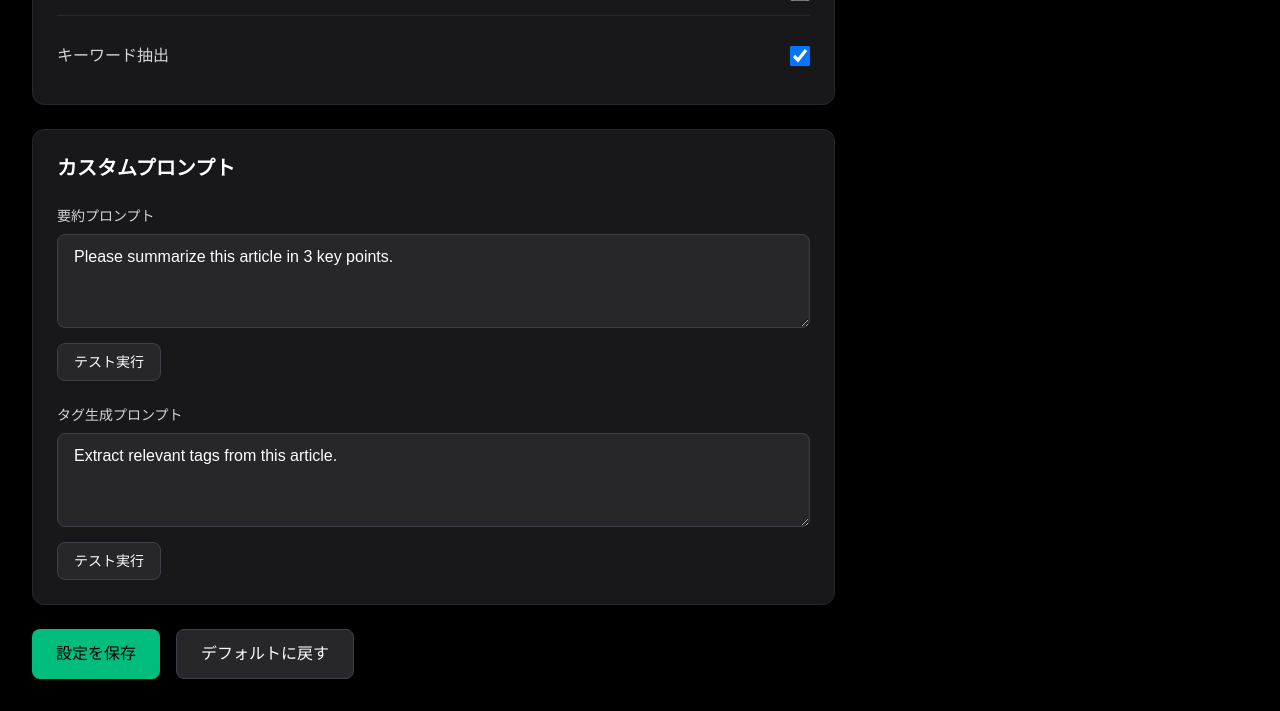
it: AISettingsPage › should reset settings to default
(page scrolled)
Click the button "デフォルトに戻す" at [265, 654], box x1=176 y1=629 x2=354 y2=679
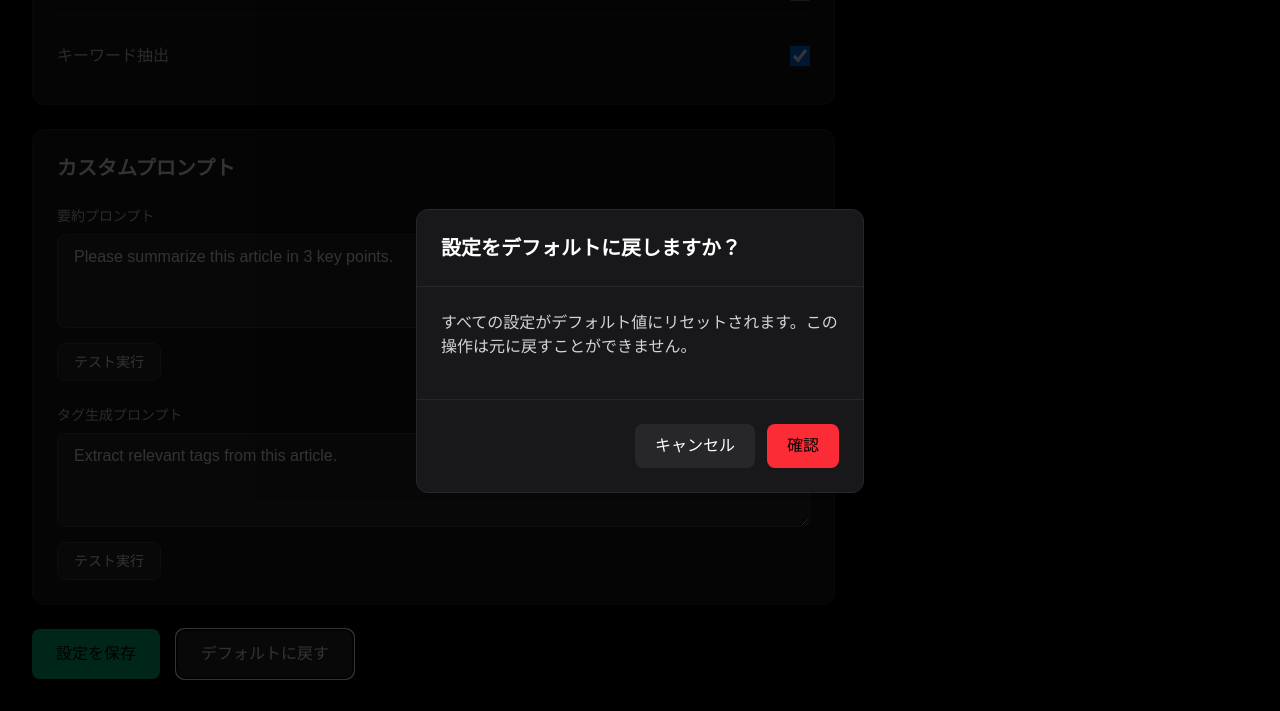
Expected: the heading "設定をデフォルトに戻しますか？" is shown, x1=441 y1=237 x2=741 y2=259
Click the button "確認" at [803, 446], box x1=767 y1=424 x2=839 y2=468
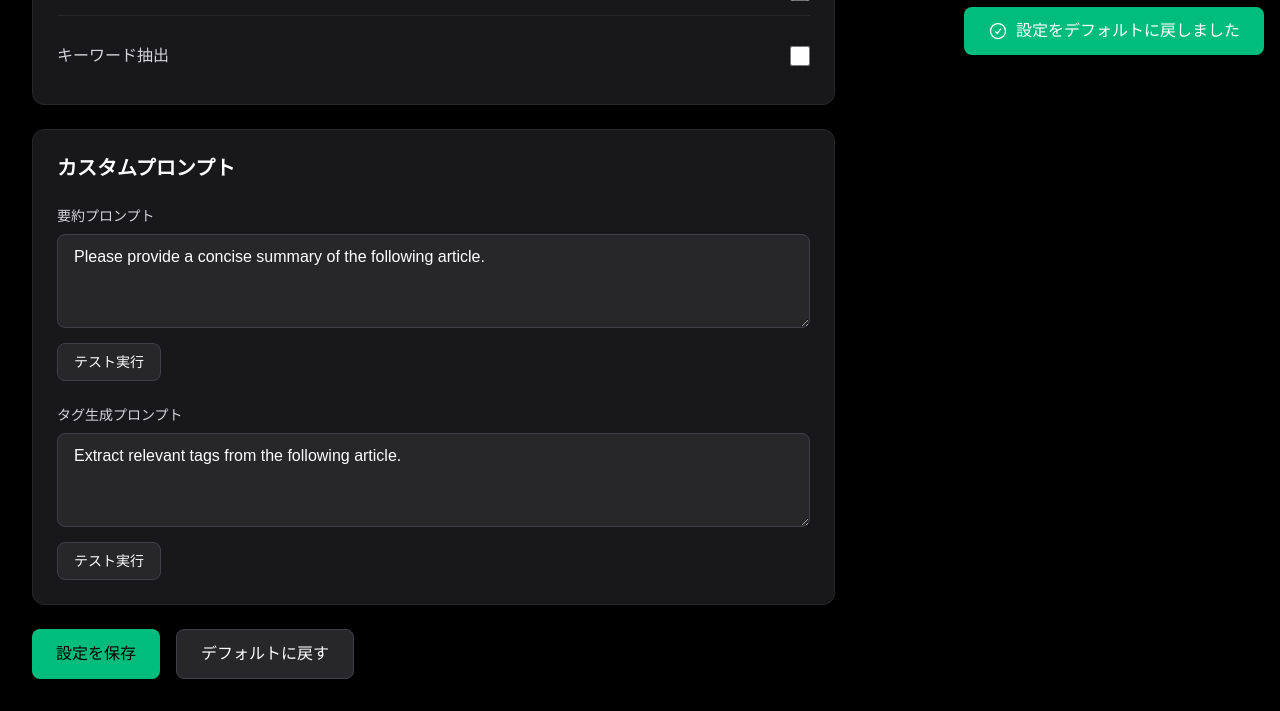
Expected: the text "設定をデフォルトに戻しました" is shown, x1=1016 y1=19 x2=1240 y2=43
